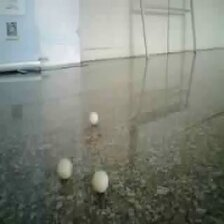tennis: (194, 110, 218, 136), (114, 79, 130, 100), (42, 69, 56, 89), (122, 61, 134, 75)
